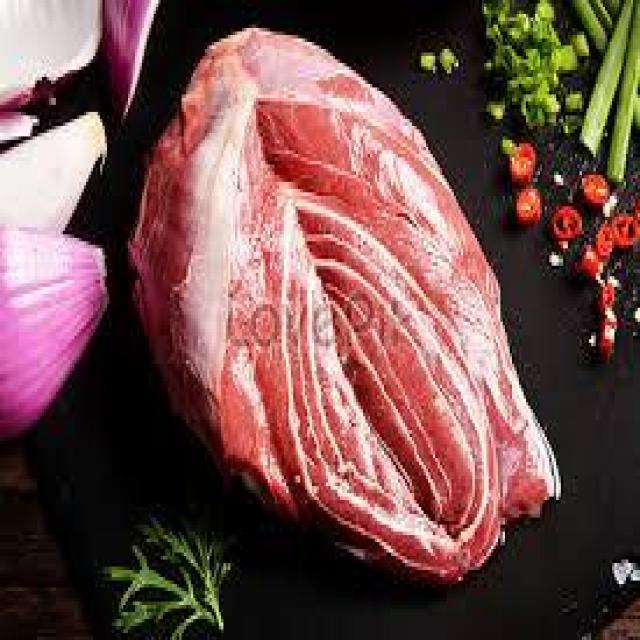Beef: (132, 64, 504, 480)
